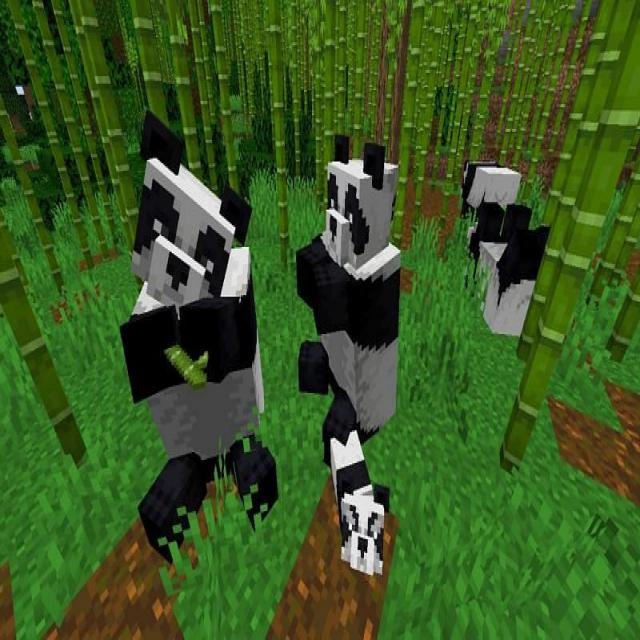Panda: (118, 109, 280, 561), (294, 130, 403, 463), (462, 200, 556, 341), (328, 423, 394, 580), (461, 155, 522, 222)
